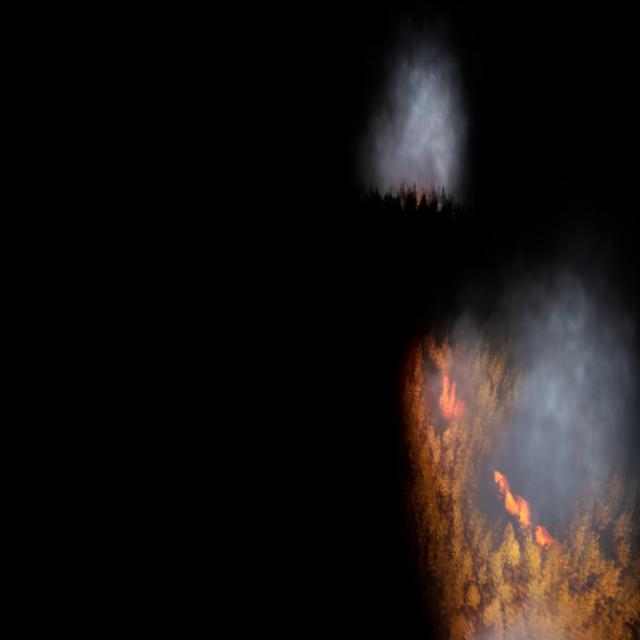fire: (401, 319, 639, 639)
smoke: (425, 273, 640, 538), (354, 45, 469, 203)
